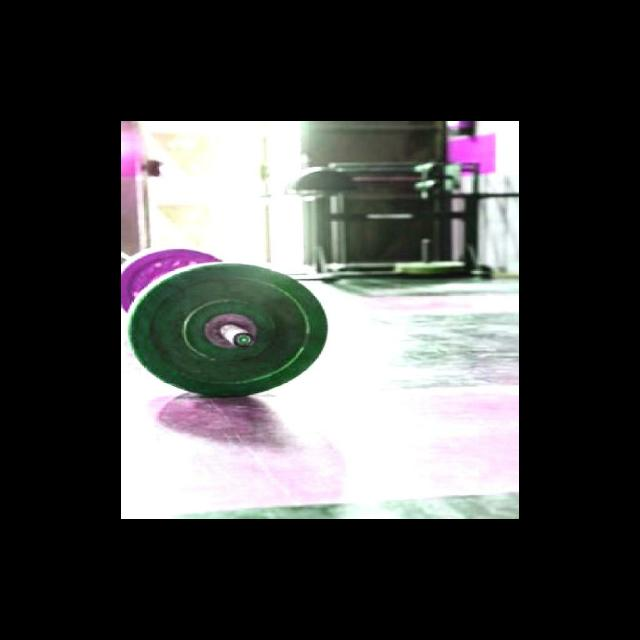barbell: (124, 259, 335, 402)
